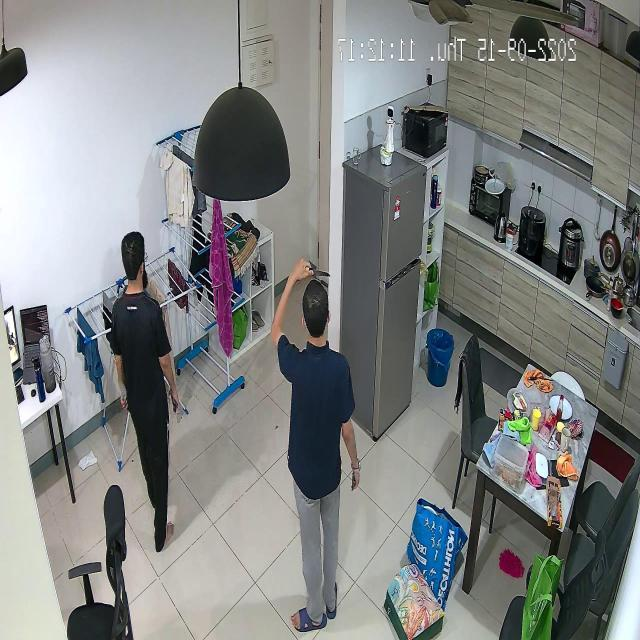Knife: (306, 261, 333, 283)
